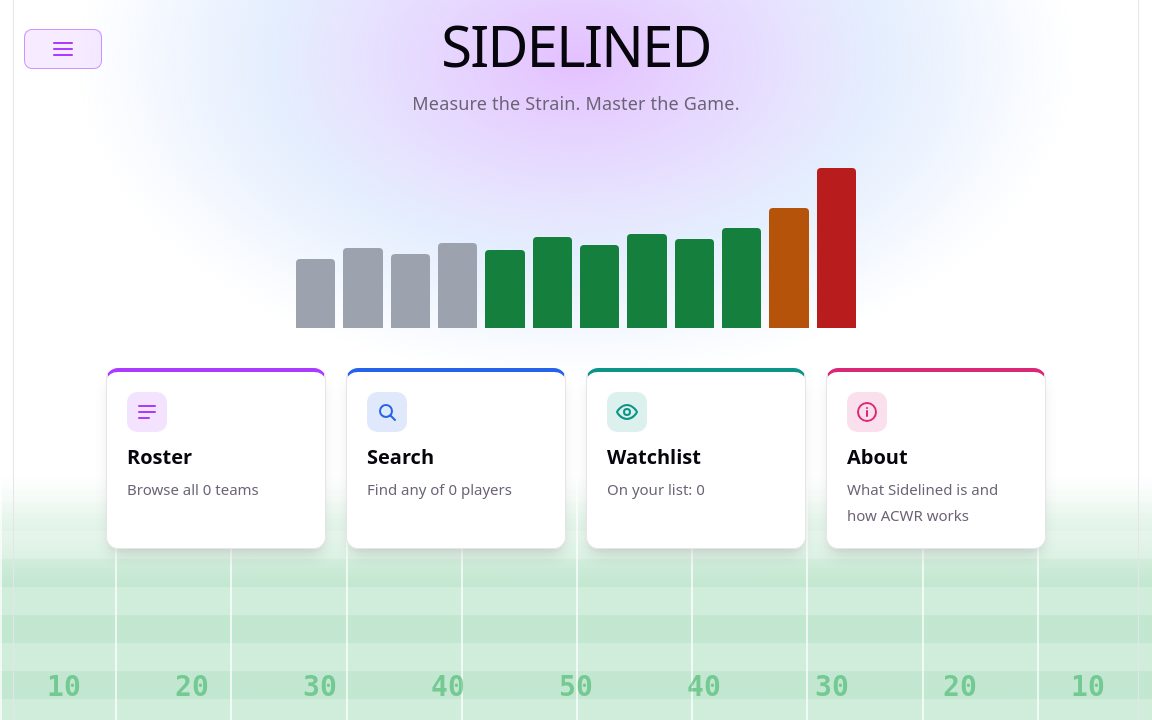
Test case: homepage navigation › renders a Watchlist item in the nav menu that navigates to the Watchlist page
Click the button named "Toggle navigation menu" at (63, 49), box [24,29,102,69]
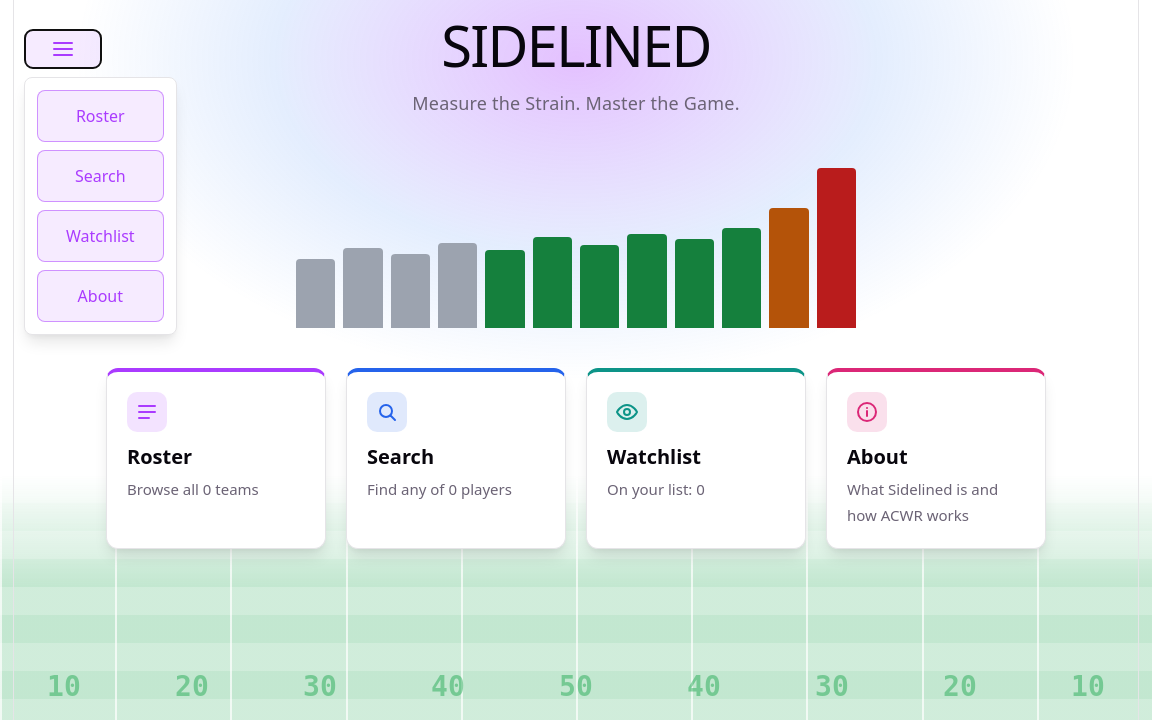
Click the menu item "Watchlist" at (100, 236), box [37,210,164,262]
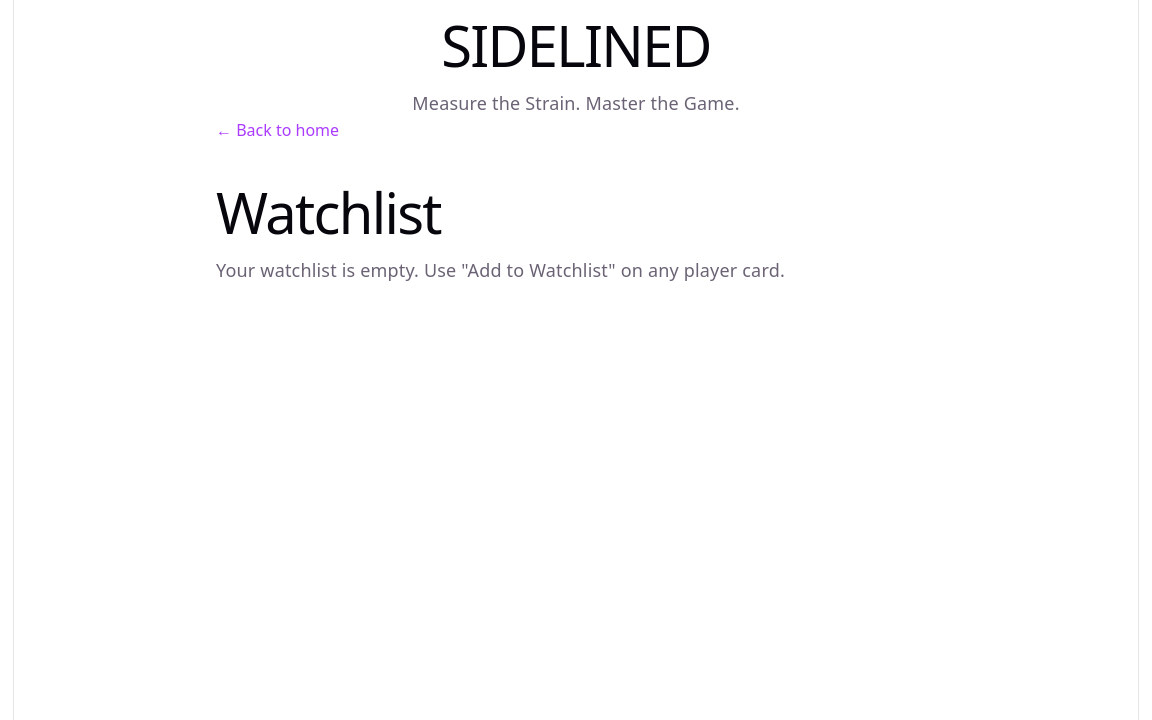
Now the heading "Watchlist" is shown, box [216,174,441,250]
